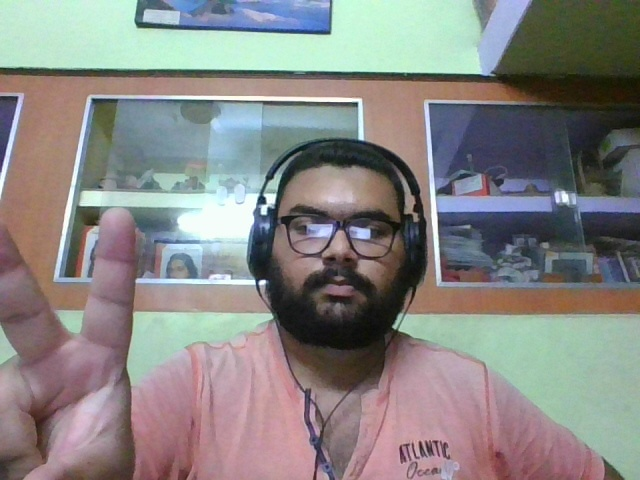iloveyou: (1, 206, 159, 480)
